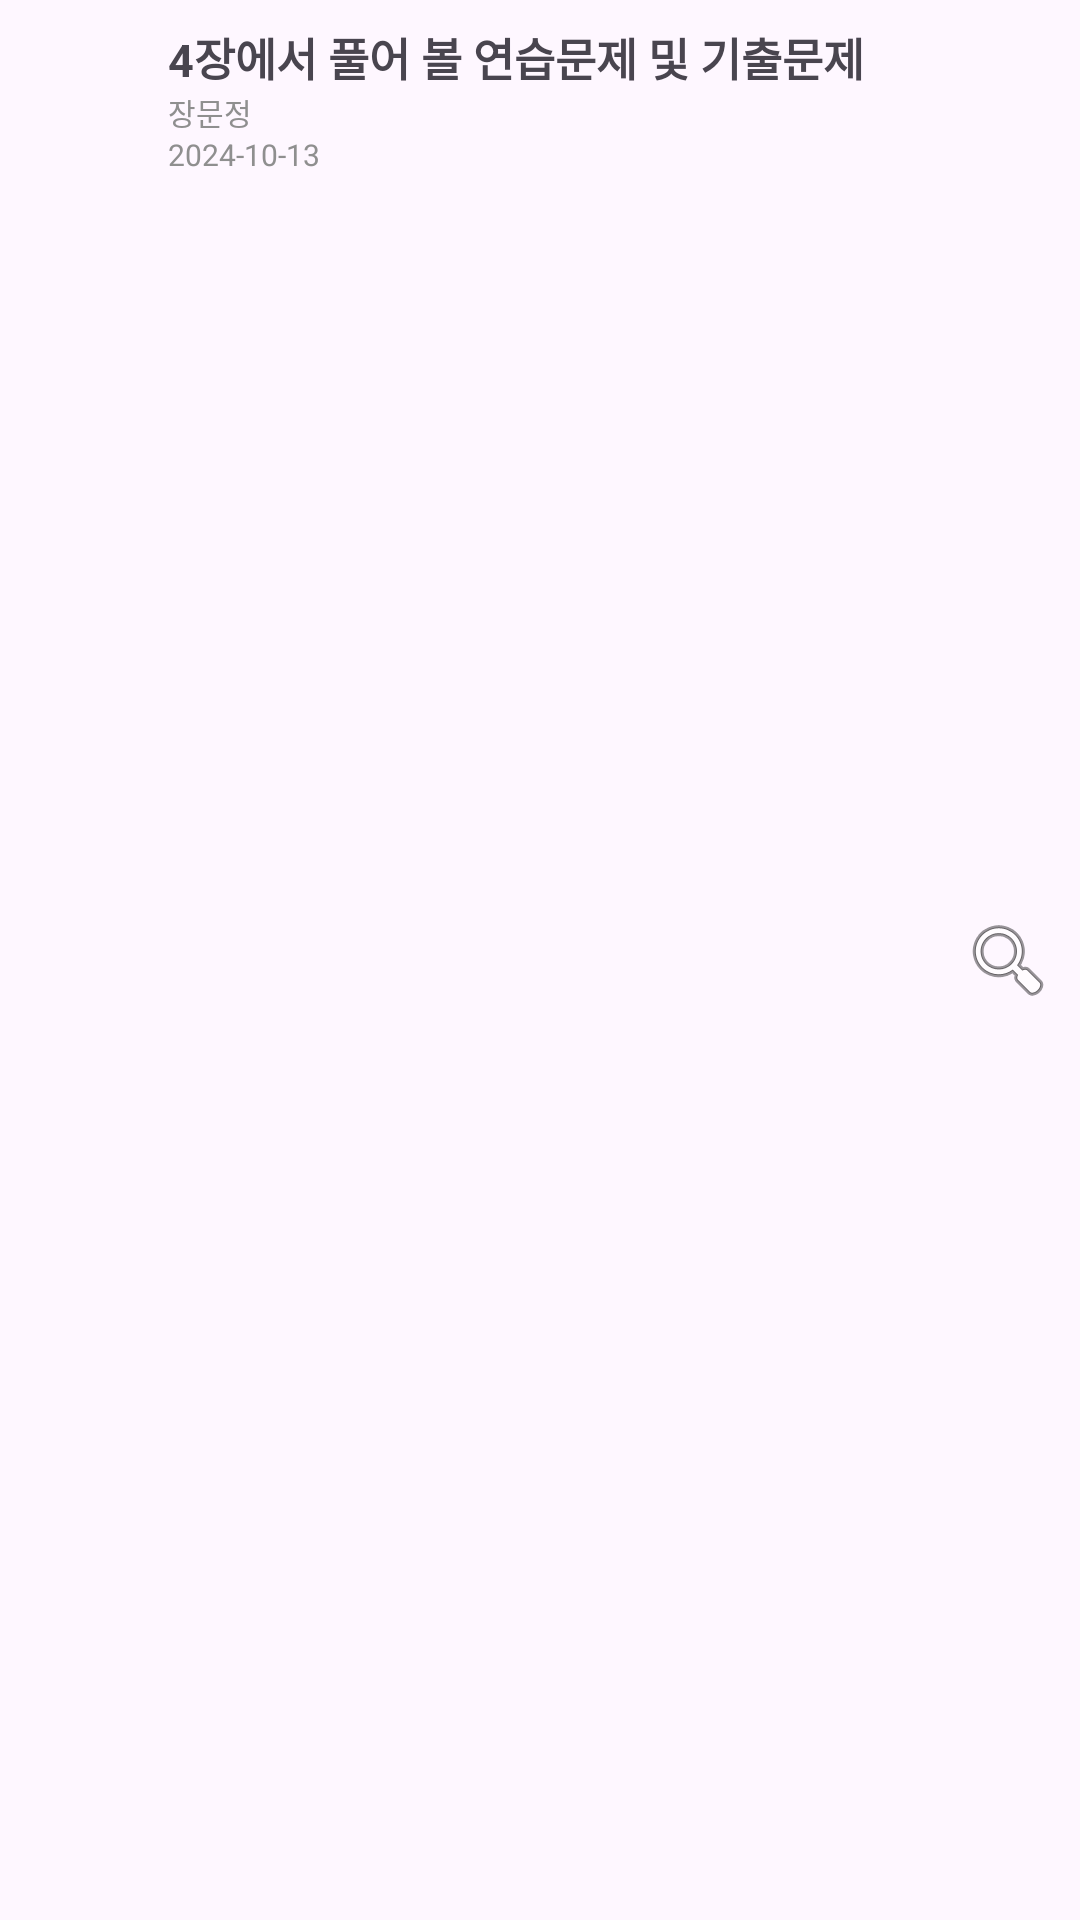

Where icons sit on this 1080 x 1920 app screen, as (x1, y1, x2, y2):
search: (972, 925, 1044, 996)
